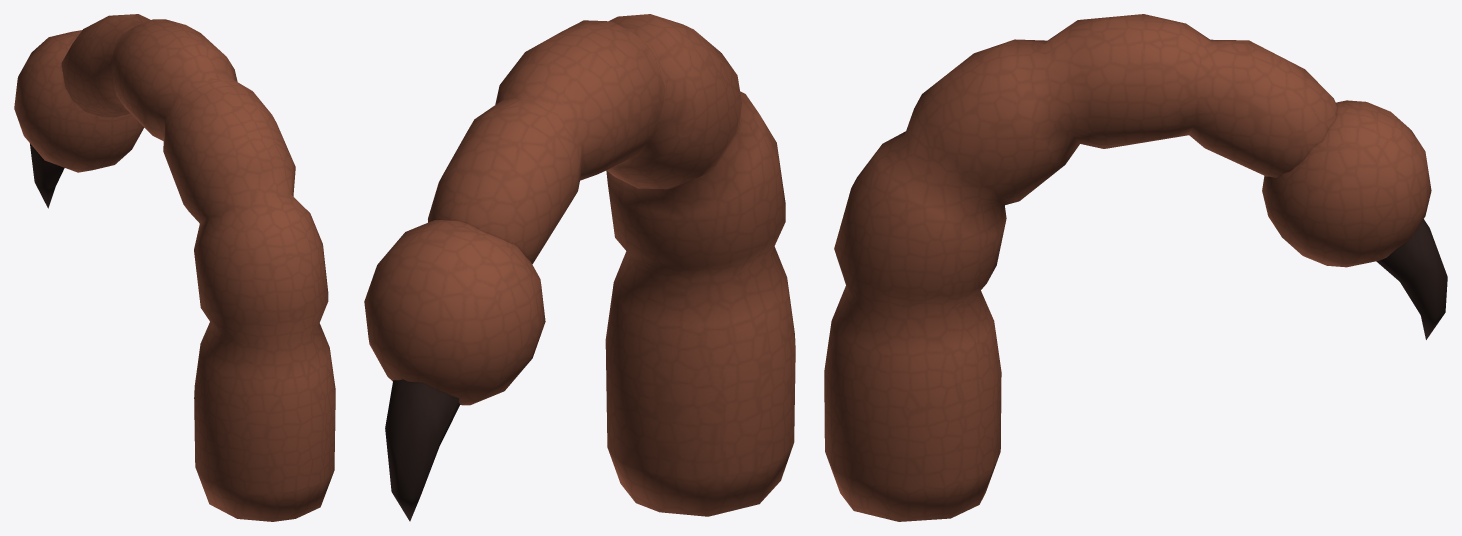
Rendered from cpart_tail_stinger.glb.
3 renders of one model, left to right at view 1: azimuth 30°, elevation 25°; view 2: azimuth 150°, elevation 25°; view 3: azimuth 270°, elevation 25°, orthographic. The views are drawn at different scales.
Visible parts, largest first — view 1: TailStinger, Barb; view 2: TailStinger, Barb; view 3: TailStinger, Barb.
Part boxes in pixels (bbox=[...]): TailStinger: bbox=[14, 14, 335, 521]; Barb: bbox=[30, 143, 64, 208]; TailStinger: bbox=[364, 14, 795, 516]; Barb: bbox=[385, 379, 460, 521]; TailStinger: bbox=[824, 14, 1431, 521]; Barb: bbox=[1376, 219, 1447, 339].
Size of the model in its own units: 0.0515 by 0.1603 by 0.1913.
2 materials, 2 textured.
